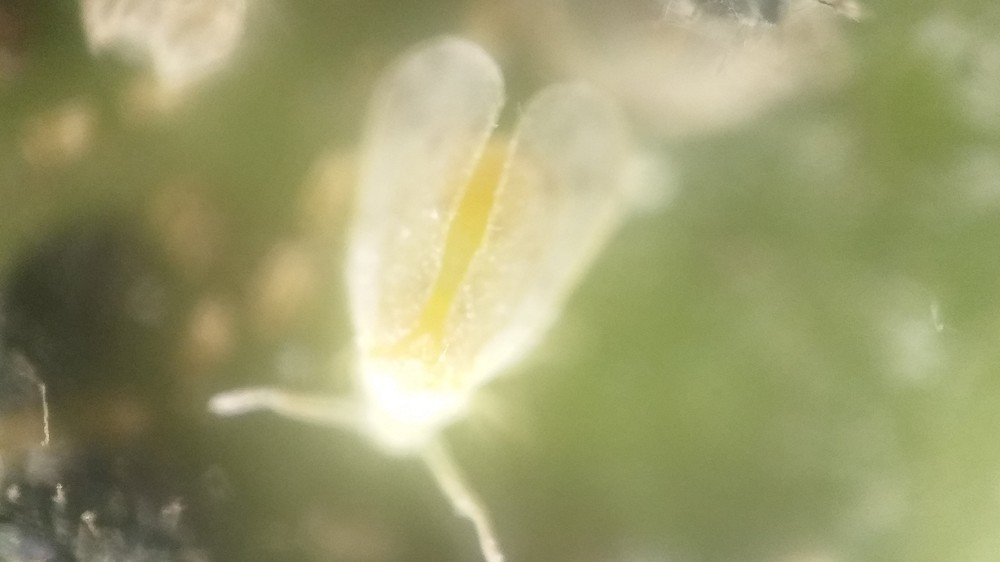Mosca Blanca: (198, 35, 707, 562)
